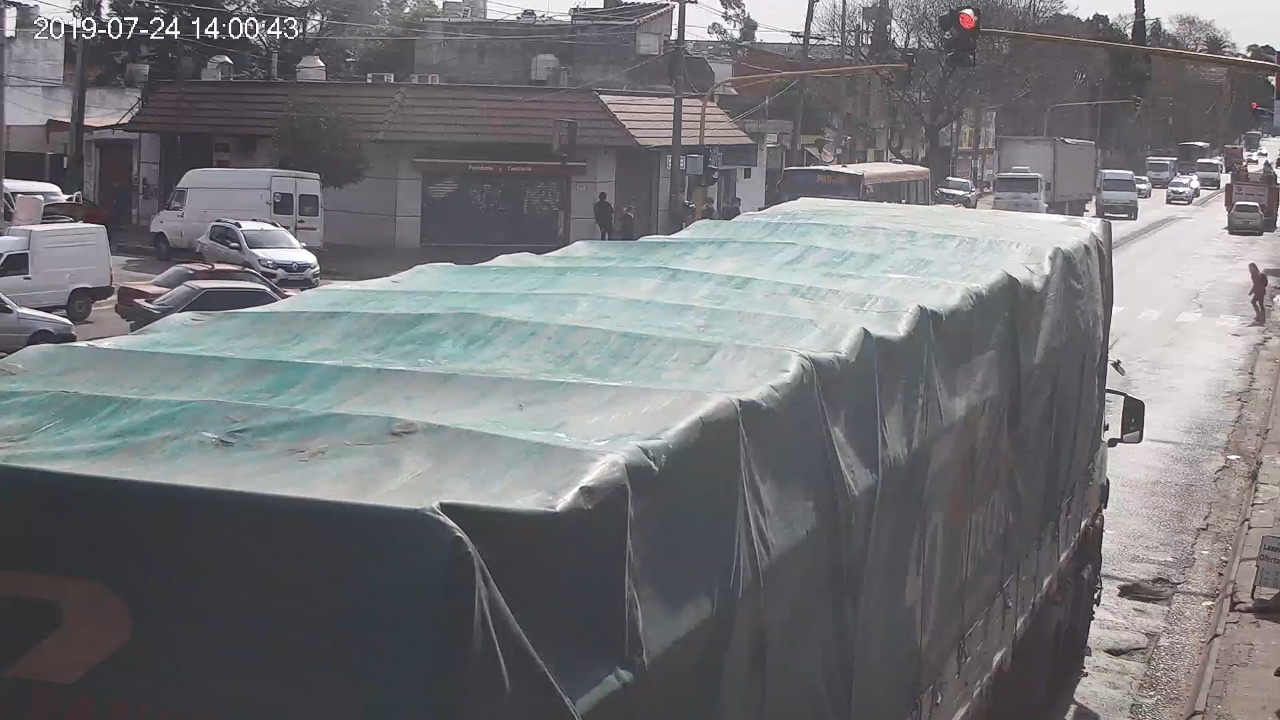traffic light: (957, 7, 979, 65)
truck: (3, 196, 1146, 720)
